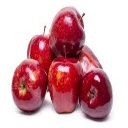apple: (11, 58, 48, 112)
